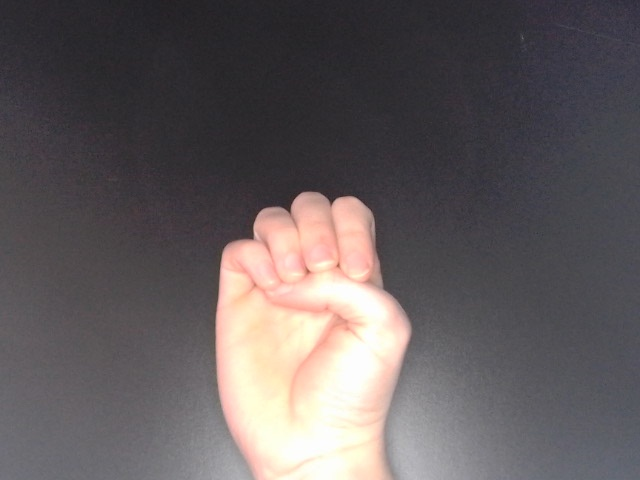e: (209, 188, 416, 477)
